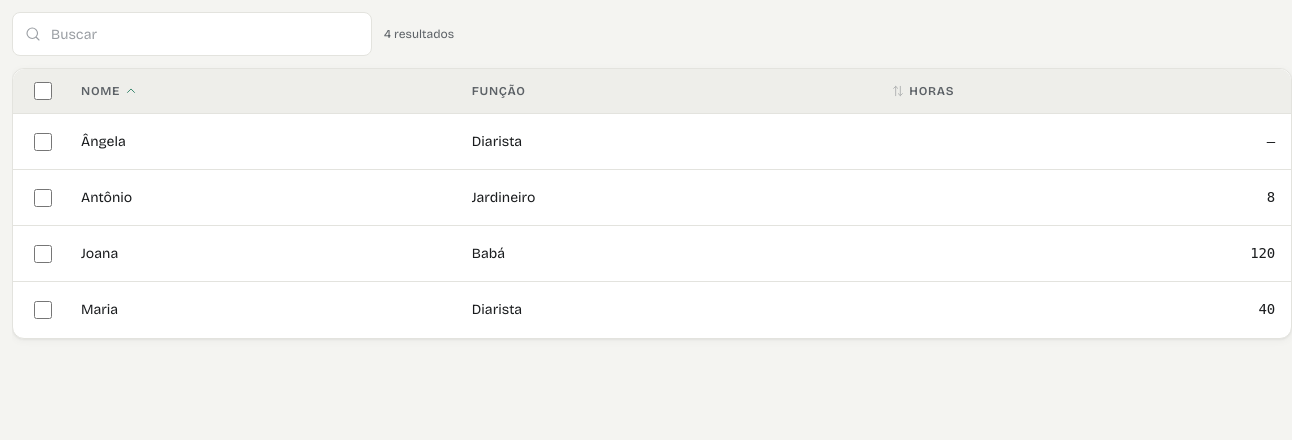
DataTable › selection › shows the header as indeterminate while only some rows are selected
The width and height of the screenshot is (1292, 440).
Click the checkbox next to "Joana" at (43, 254), box [34, 244, 52, 262]
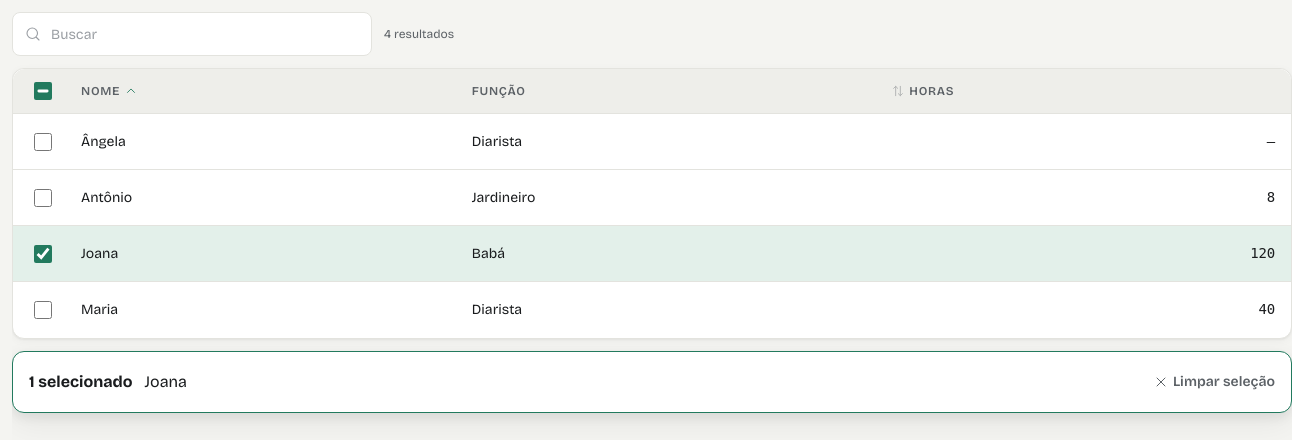
expect the checkbox in the row of "Função" is not checked: met, box [34, 82, 52, 100]
expect the element with class "dt__bulk" shows "1 selecionado": met, box [29, 372, 132, 390]
expect the number of rows with class "is-selected" is 1: met, box [13, 226, 1291, 282]
